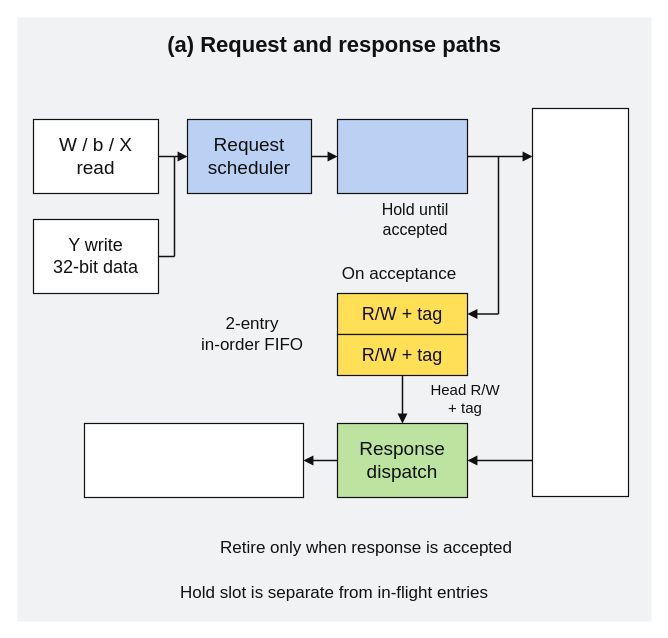
Image size: 668x638. Some labels were removed from this diagram. Each missing label, with the centre of its shape:
"Read: W / b / X Write: completion" belongs at (x=193, y=460).
"Request hold slot" belongs at (x=402, y=156).
"System bus" belongs at (x=580, y=302).
